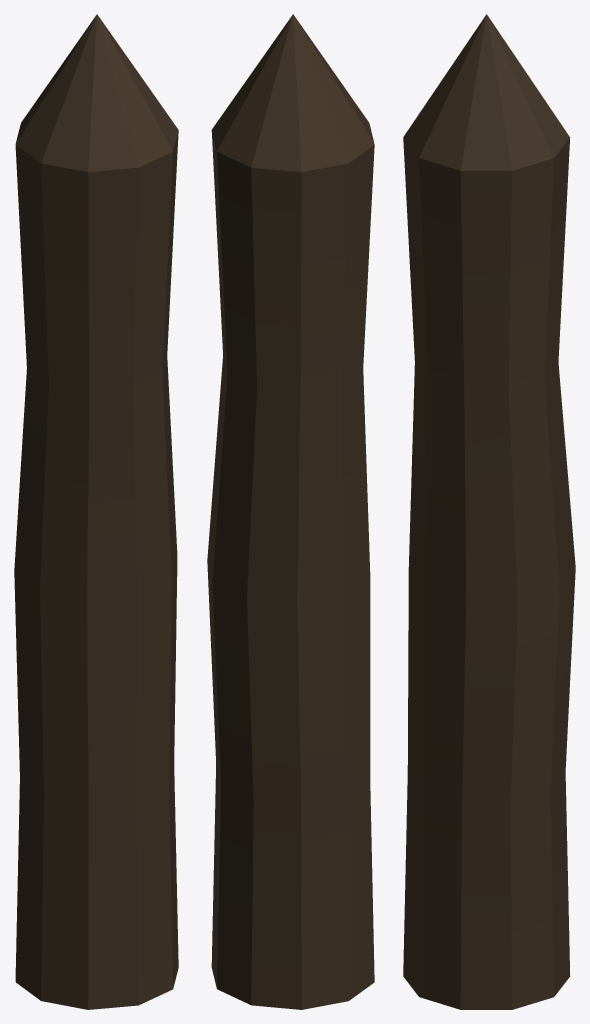
File: Wall_Corner.fbx
3 views of the same model, side by side, from view 1: azimuth 30°, elevation 25°; view 2: azimuth 150°, elevation 25°; view 3: azimuth 270°, elevation 25° (orthographic).
Parts seen in each view (by area): view 1: Corner_Piece; view 2: Corner_Piece; view 3: Corner_Piece.
Part boxes in pixels (left/top/right/bottom): Corner_Piece: left=14, top=14, right=178, bottom=1009; Corner_Piece: left=207, top=14, right=374, bottom=1009; Corner_Piece: left=403, top=14, right=575, bottom=1009.
Size of the model in its own units: 6.49 by 42.89 by 6.97.
